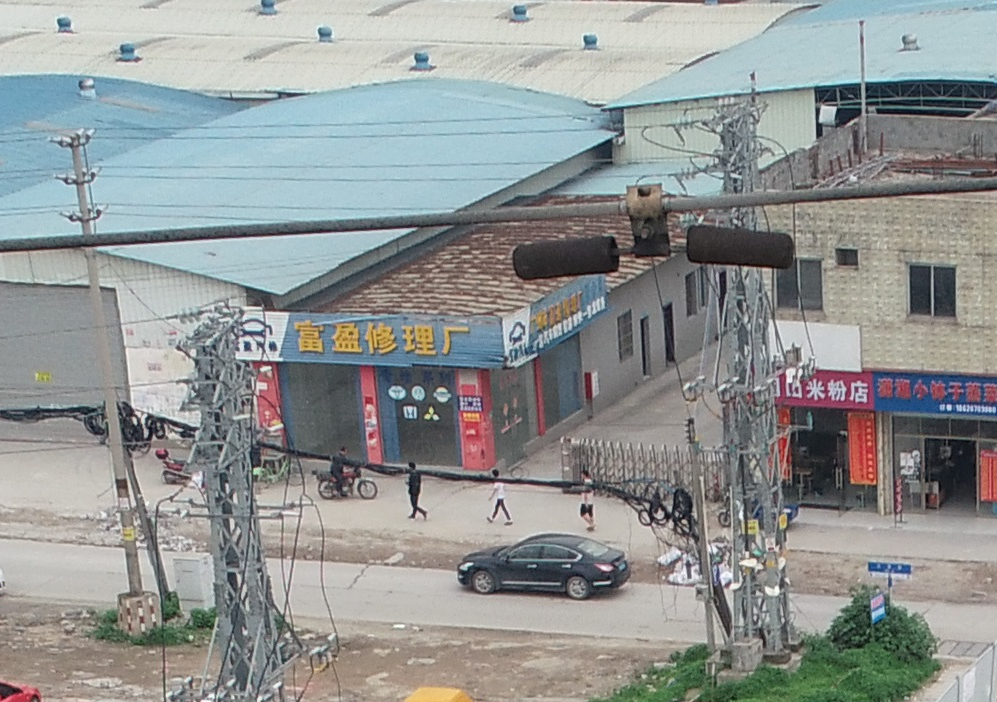damper: (510, 178, 794, 282)
